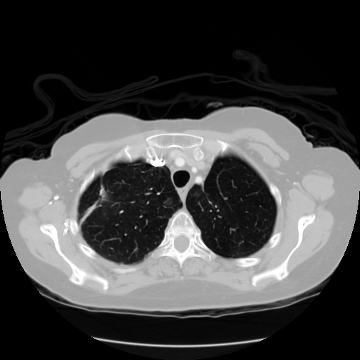nodule: (164, 198, 172, 206)
